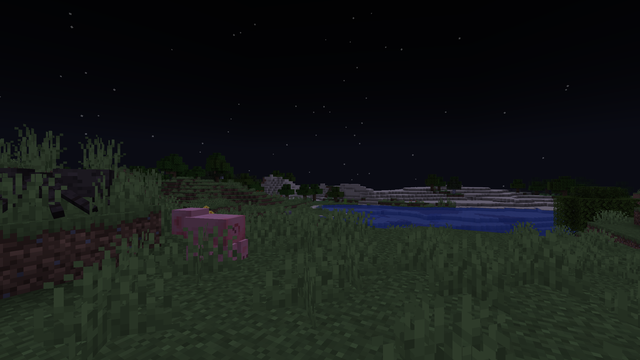araignees: (3, 161, 109, 220)
cochons: (181, 211, 247, 268)
